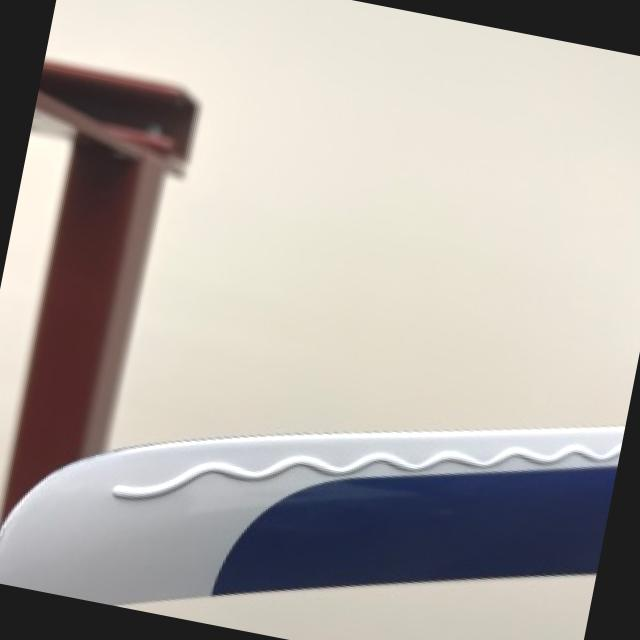healthy: (0, 425, 626, 640)
